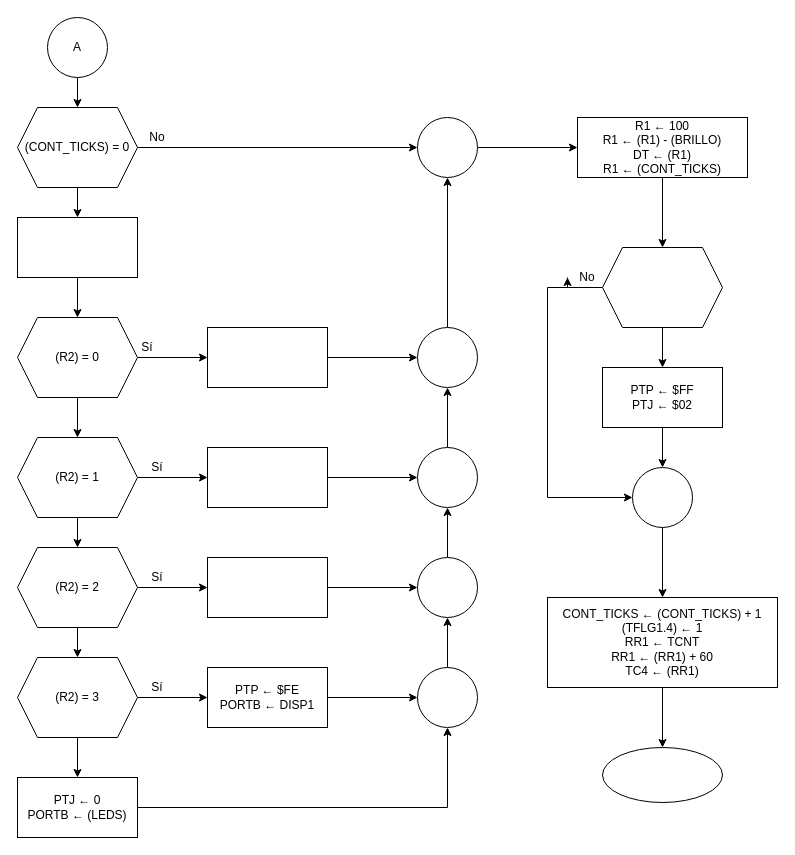
Some shapes in this 795 by 855 pixel diagram are drawn without their labels. Each missing label, with the box of its shape:
(R1) = (DT): (602, 246, 722, 328)
PTJ ← $02 PTP ← $FF R2 ← (CONT_DIG): (16, 216, 138, 278)
PTP ← $F7 PORTB ← DISP4: (206, 326, 328, 388)
PTP ← $FB PORTB ← DISP3: (206, 446, 328, 508)
PTP ← $FD PORTB ← DISP2: (206, 556, 328, 618)
RETORNAR: (602, 746, 722, 802)
